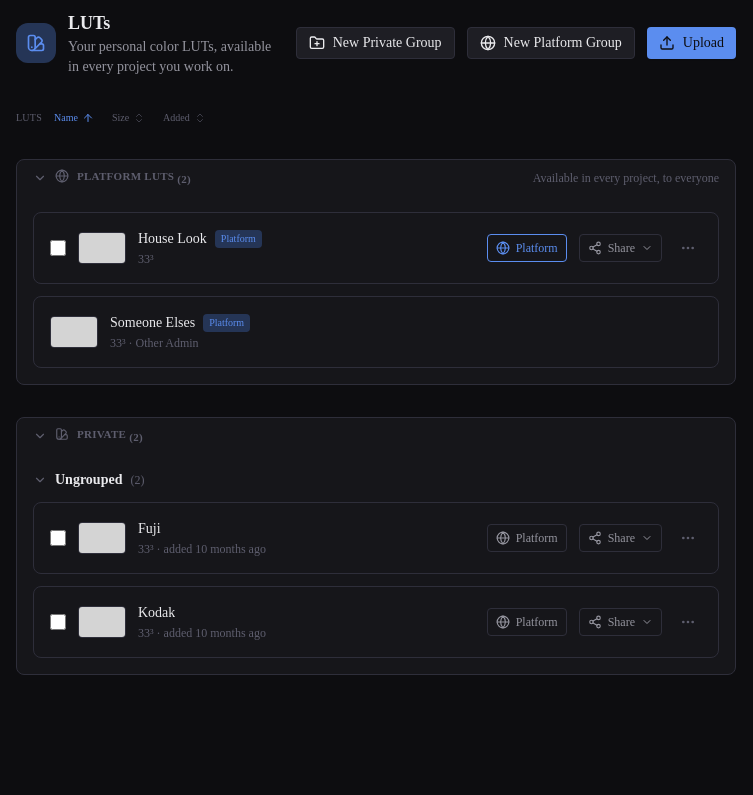
the toolbar › appears only once something is selected, and counts it
Check: the text "selected" is not shown
Click the checkbox named "Select Kodak".
click(58, 622)  # box [50,614,66,630]
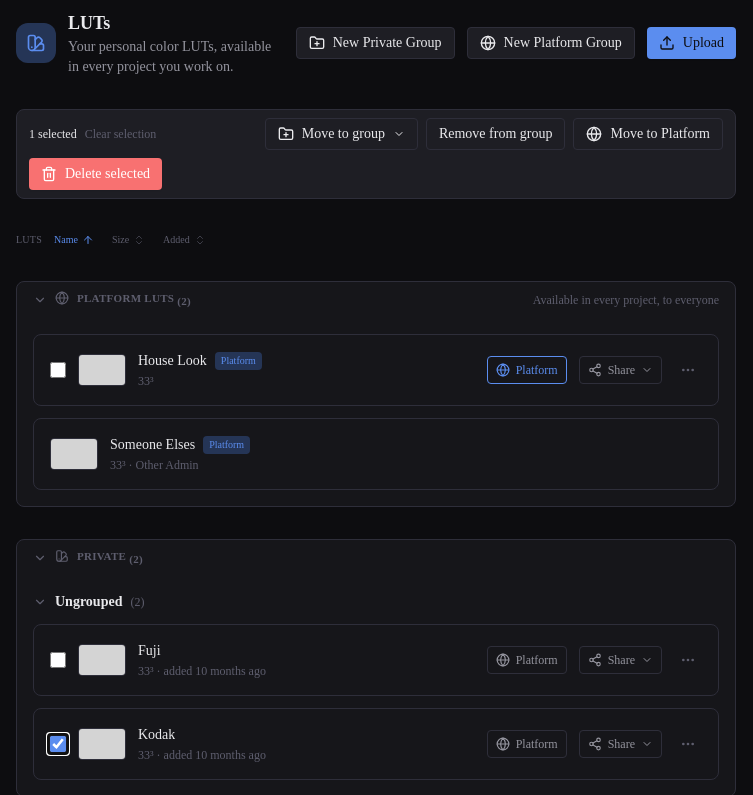
Check: the text "1 selected" is shown, box [29,126,77,142]
Click the checkbox named "Select Fuji".
click(58, 660)  # box [50,652,66,668]
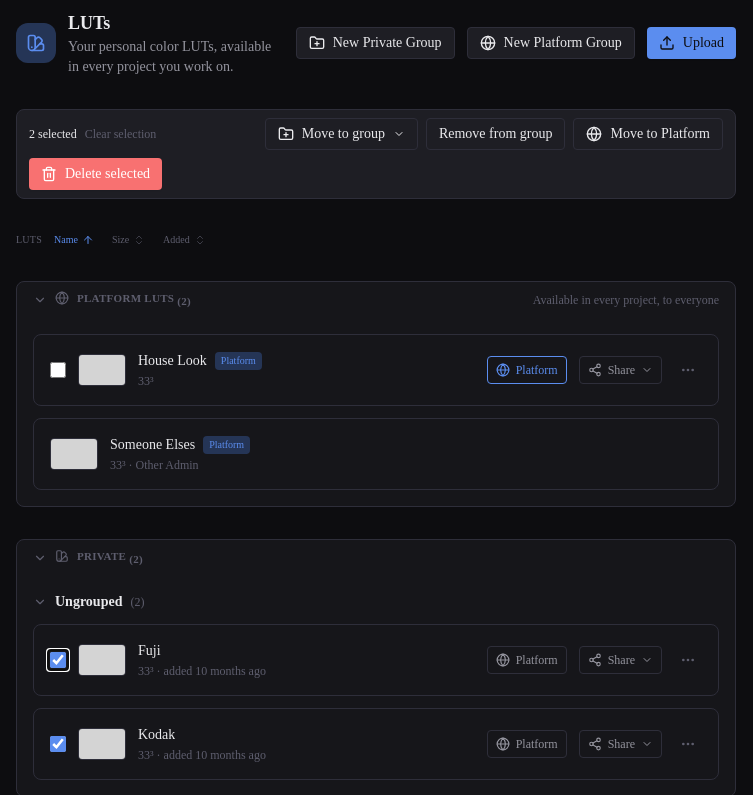
Check: the text "2 selected" is shown, box [29,126,77,142]
